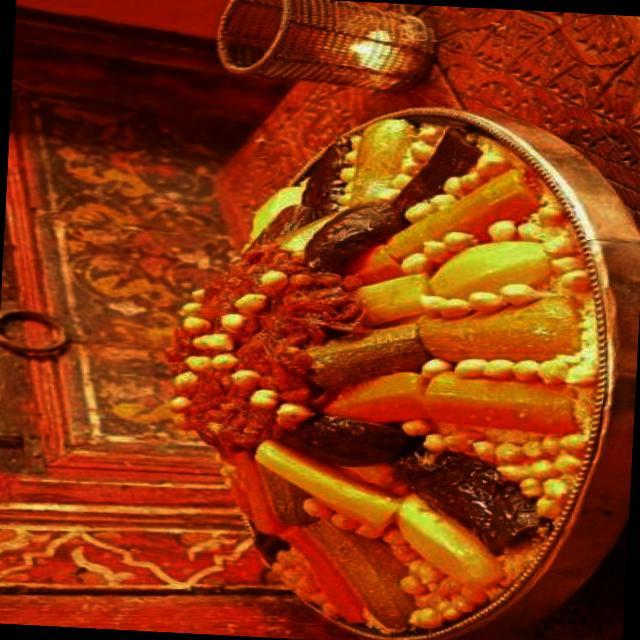Couscous: (158, 103, 608, 640)
